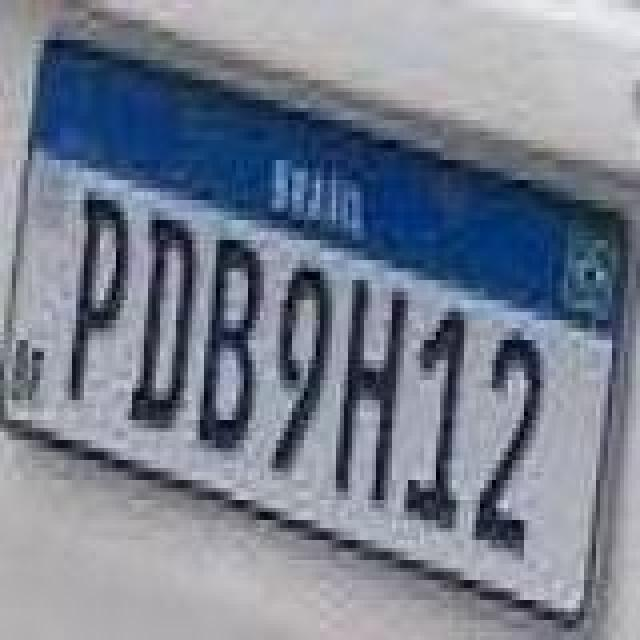1: (404, 304, 468, 536)
2: (472, 328, 544, 560)
9: (266, 262, 334, 474)
B: (196, 234, 268, 454)
D: (126, 214, 194, 434)
H: (332, 280, 404, 512)
P: (62, 190, 130, 410)
